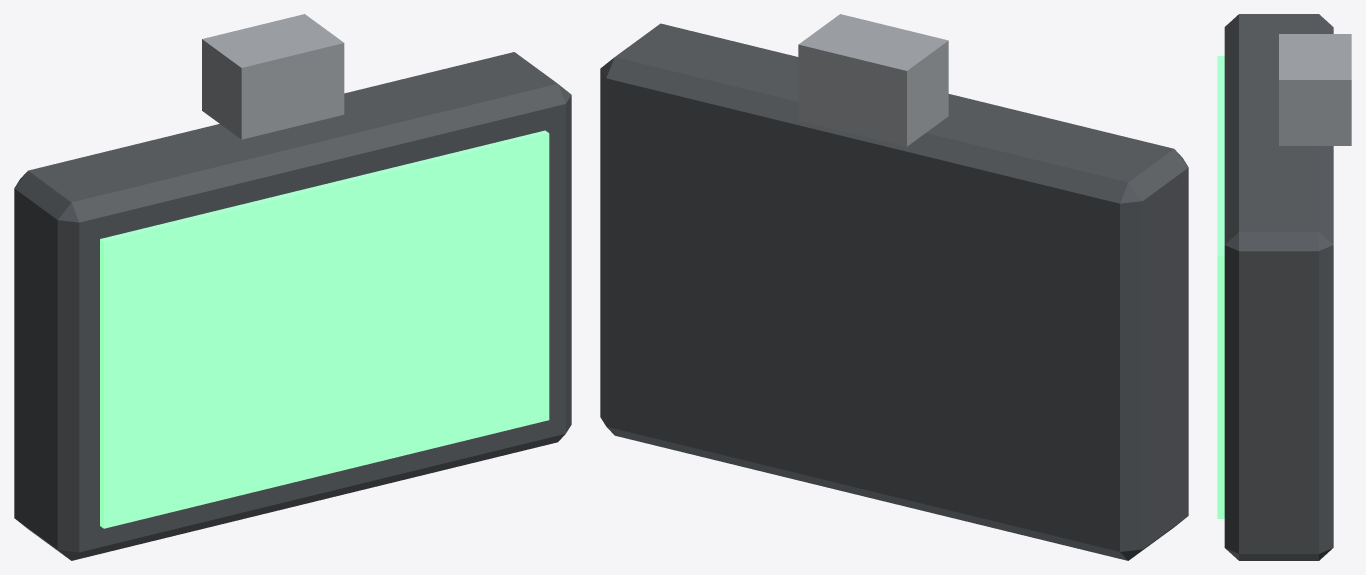
3 views of the same model, side by side, from view 1: azimuth 30°, elevation 25°; view 2: azimuth 150°, elevation 25°; view 3: azimuth 270°, elevation 25° (orthographic). The views are drawn at different scales.
Parts seen in each view (by area): view 1: an_tv; view 2: an_tv; view 3: an_tv.
Part boxes in pixels (x1=…): an_tv: x1=14, y1=14, x2=571, y2=560; an_tv: x1=600, y1=14, x2=1188, y2=560; an_tv: x1=1217, y1=14, x2=1351, y2=560.
Size of the model in its own units: 1.5 by 1.2 by 0.37.
